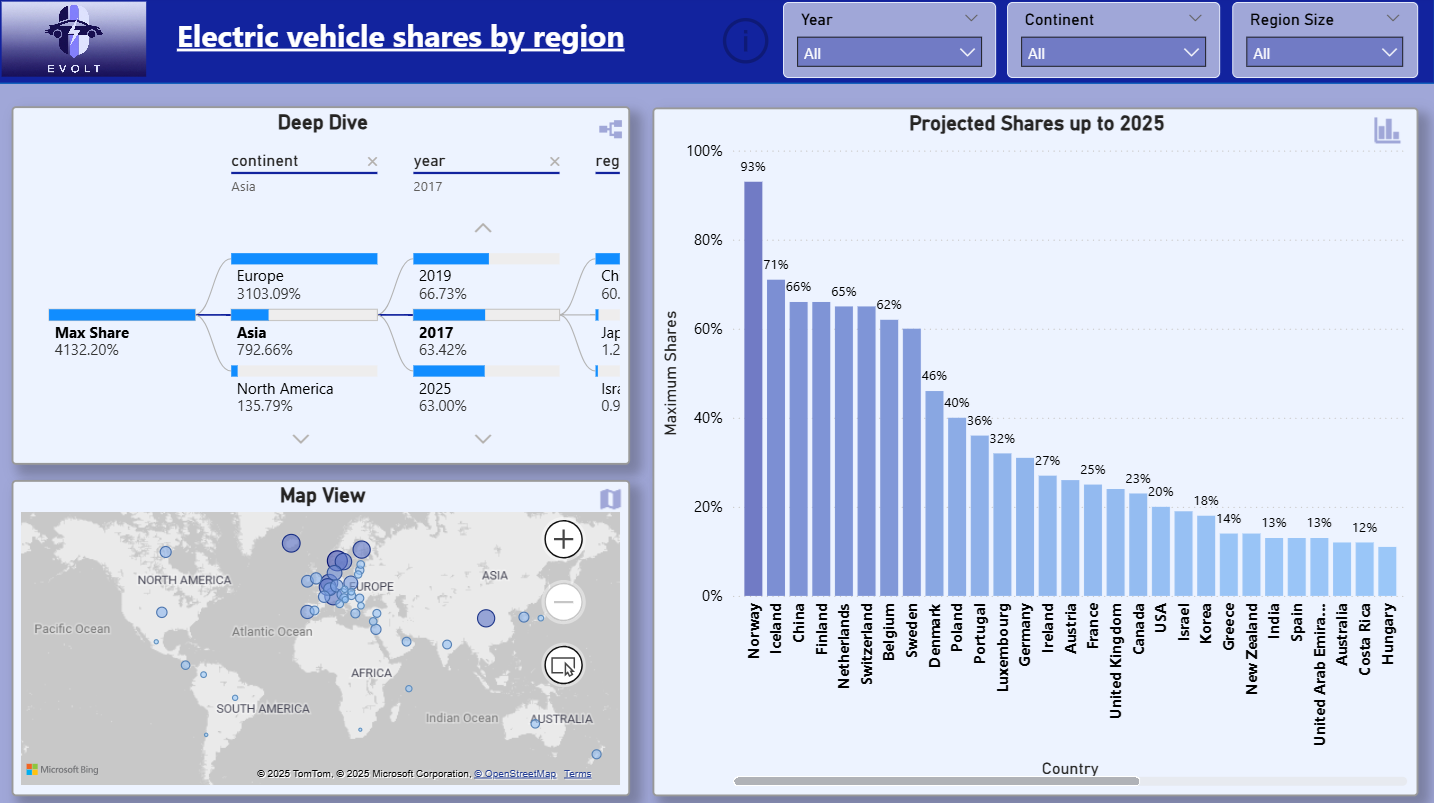

This screenshot's page, from the dashboard's own definition file:
{"tool":"powerbi","page":{"name":"Shares by Region","canvas":[1280,720],"ordinal":1},"visuals":[{"type":"shape","box":[0,0,1279.6,78.1],"z":0},{"type":"decompositionTreeVisual","title":"Deep Dive","fields":{"ExplainBy":["EV_Data.Continent","EV_Data.year","EV_Data.region"],"Analyze":["Sum(EV_Data.Max_Share)"]},"box":[14.1,98.8,550.2,318.6],"z":0,"group":"g3"},{"type":"slicer","fields":{"Values":["EV_Data.Region_Size"]},"box":[1099.2,5.1,165.1,67.8],"z":1000},{"type":"image","box":[529.8,98.5,34.6,40.9],"z":1000,"group":"g3"},{"type":"clusteredColumnChart","title":"Projected Shares up to 2025","fields":{"Category":["EV_Data.region"],"Y":["Max(EV_Data.Max_Share)"]},"box":[583.5,98.8,680.8,612.9],"z":1000,"group":"g2"},{"type":"textbox","box":[138.2,11.5,442.8,56.3],"z":2000},{"type":"map","title":"Map View","fields":{"Category":["EV_Data.region"],"Size":["Max(EV_Data.Max_Share)"]},"box":[14.1,430.2,550.2,281.5],"z":2000,"group":"g4"},{"type":"group","id":"g1","title":"Group 2","box":[529.4,430.2,34.9,34.6],"z":3000},{"type":"slicer","fields":{"Values":["EV_Data.Continent"]},"box":[899.6,5.1,189.4,67.8],"z":4000},{"type":"image","box":[1210.1,98.8,54.1,40.9],"z":4002,"group":"g2"},{"type":"group","id":"g2","title":"Group 1","box":[583.5,98.8,680.8,612.9],"z":5000},{"type":"group","id":"g3","title":"Group 3","box":[14.1,98.5,550.2,318.9],"z":6000},{"type":"image","box":[529.4,430.2,34.9,34.6],"z":6000,"group":"g1"},{"type":"image","box":[529.5,430.2,34.9,34.6],"z":6000,"group":"g4"},{"type":"group","id":"g4","title":"Group 2","box":[14.1,430.2,550.2,281.5],"z":7000},{"type":"slicer","fields":{"Values":["EV_Data.year"]},"box":[700,5.1,189.4,67.8],"z":8000},{"type":"actionButton","box":[639.8,11.5,52.5,56.3],"z":9000},{"type":"image","box":[0,0,138.2,76.8],"z":10000}]}

Visuals, with their boxes in screenshot pixels (x1, y1, x2, y2), scaled from the page's 1280x720 canvas onto the 1434x803 screenshot:
shape: (left=0, top=0, right=1433, bottom=87)
"Deep Dive" decompositionTreeVisual: (left=16, top=110, right=632, bottom=466)
slicer - EV_Data.Region_Size: (left=1231, top=6, right=1416, bottom=81)
image: (left=594, top=110, right=632, bottom=155)
"Projected Shares up to 2025" clusteredColumnChart: (left=654, top=110, right=1416, bottom=794)
textbox: (left=155, top=13, right=651, bottom=76)
"Map View" map: (left=16, top=480, right=632, bottom=794)
"Group 2" group: (left=593, top=480, right=632, bottom=518)
slicer - EV_Data.Continent: (left=1008, top=6, right=1220, bottom=81)
image: (left=1356, top=110, right=1416, bottom=156)
"Group 1" group: (left=654, top=110, right=1416, bottom=794)
"Group 3" group: (left=16, top=110, right=632, bottom=466)
image: (left=593, top=480, right=632, bottom=518)
image: (left=593, top=480, right=632, bottom=518)
"Group 2" group: (left=16, top=480, right=632, bottom=794)
slicer - EV_Data.year: (left=784, top=6, right=996, bottom=81)
actionButton: (left=717, top=13, right=776, bottom=76)
image: (left=0, top=0, right=155, bottom=86)
